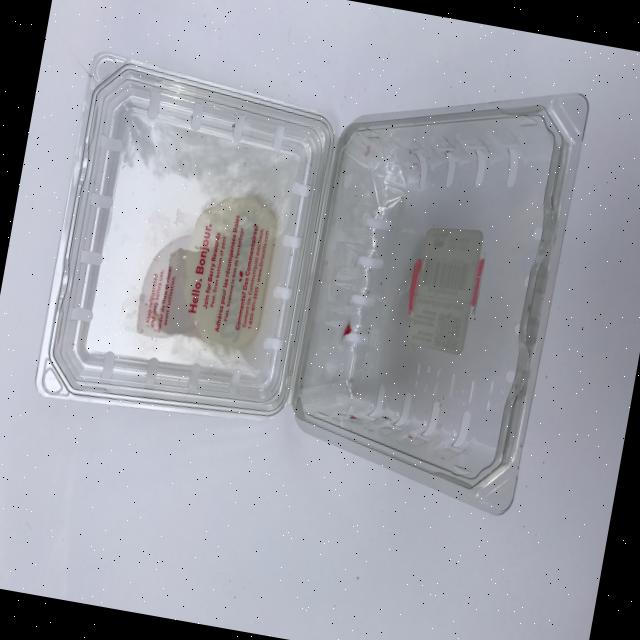plastic: (6, 0, 636, 514)
